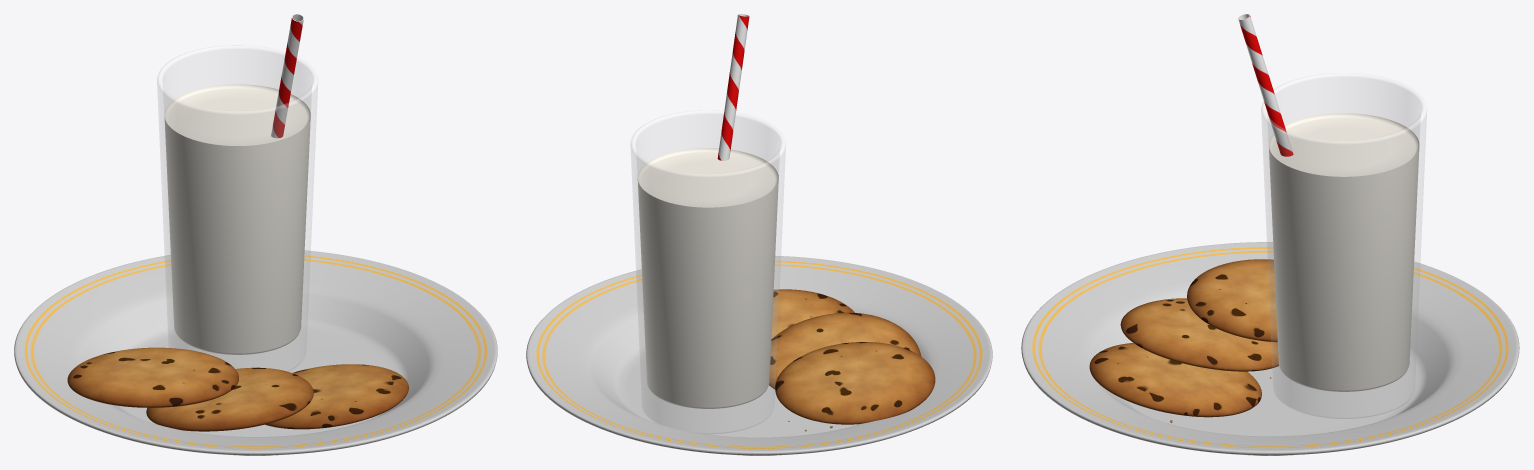
The model's file is cookies_serves.glb.
3 views of the same model, side by side, from view 1: azimuth 30°, elevation 25°; view 2: azimuth 150°, elevation 25°; view 3: azimuth 270°, elevation 25° (orthographic). The views are drawn at different scales.
Parts seen in each view (by area): view 1: Plate_Plate_0, Glass_of_Milk_Glass_0, Glass_of_Milk_Milk_0, Cookie_1_Cookie3_0, Cookie_2_Cookie2_0, Cookie_3_Cookie1_0, Straw; view 2: Glass_of_Milk_Glass_0, Plate_Plate_0, Glass_of_Milk_Milk_0, Cookie_1_Cookie3_0, Cookie_2_Cookie2_0, Cookie_3_Cookie1_0, Straw; view 3: Glass_of_Milk_Glass_0, Plate_Plate_0, Glass_of_Milk_Milk_0, Cookie_3_Cookie1_0, Cookie_2_Cookie2_0, Cookie_1_Cookie3_0, Straw.
Boxes of the visible parts, left/top/right/bottom form: Plate_Plate_0: left=14, top=250, right=497, bottom=455; Glass_of_Milk_Glass_0: left=157, top=45, right=317, bottom=371; Glass_of_Milk_Milk_0: left=164, top=84, right=310, bottom=354; Cookie_1_Cookie3_0: left=67, top=347, right=238, bottom=407; Cookie_2_Cookie2_0: left=146, top=367, right=313, bottom=431; Cookie_3_Cookie1_0: left=265, top=364, right=408, bottom=429; Straw: left=271, top=14, right=303, bottom=138; Glass_of_Milk_Glass_0: left=630, top=110, right=785, bottom=433; Plate_Plate_0: left=526, top=256, right=992, bottom=455; Glass_of_Milk_Milk_0: left=637, top=148, right=778, bottom=408; Cookie_1_Cookie3_0: left=775, top=342, right=935, bottom=424; Cookie_2_Cookie2_0: left=769, top=312, right=921, bottom=389; Cookie_3_Cookie1_0: left=771, top=289, right=854, bottom=338; Straw: left=717, top=14, right=749, bottom=160; Glass_of_Milk_Glass_0: left=1261, top=73, right=1426, bottom=418; Plate_Plate_0: left=1021, top=242, right=1519, bottom=455; Glass_of_Milk_Milk_0: left=1268, top=113, right=1419, bottom=391; Cookie_3_Cookie1_0: left=1089, top=343, right=1261, bottom=417; Cookie_2_Cookie2_0: left=1120, top=298, right=1278, bottom=371; Cookie_1_Cookie3_0: left=1187, top=259, right=1277, bottom=342; Straw: left=1238, top=14, right=1293, bottom=156.
Bounding box in the file's own units: 0.247 × 0.2171 × 0.247.
8 materials, 6 textured.
